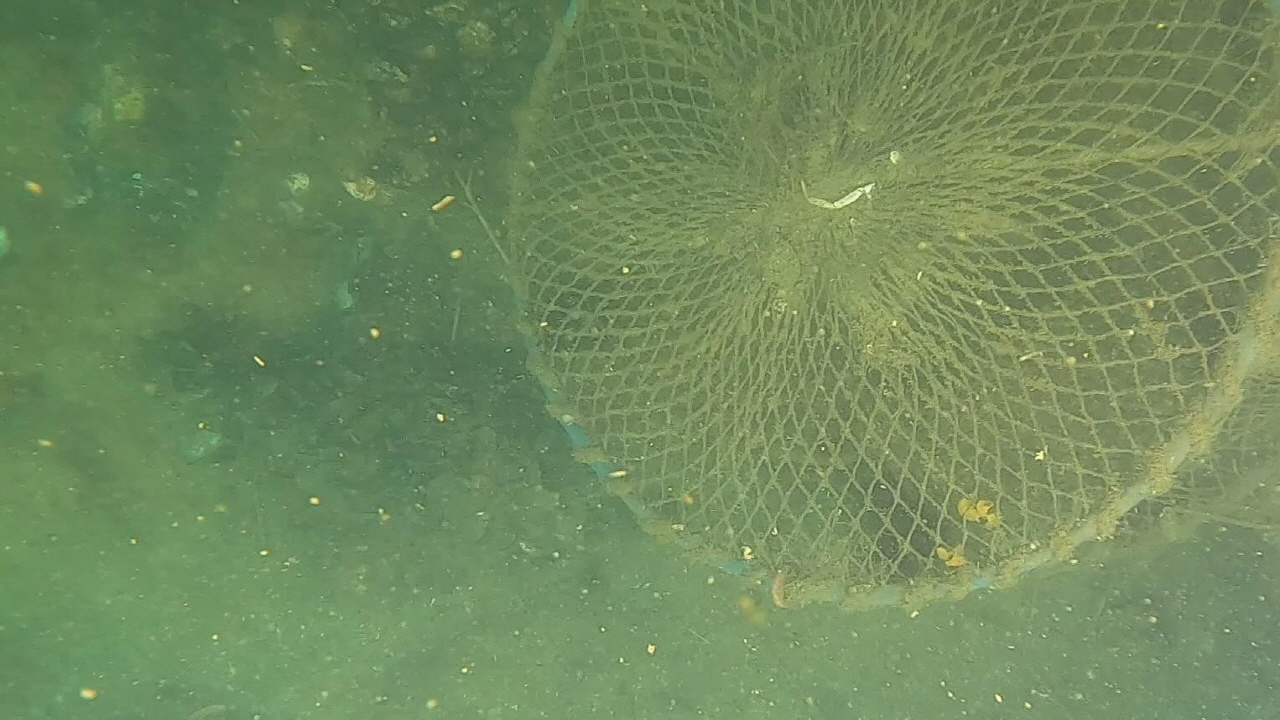circular fish trap: (507, 0, 1280, 612)
